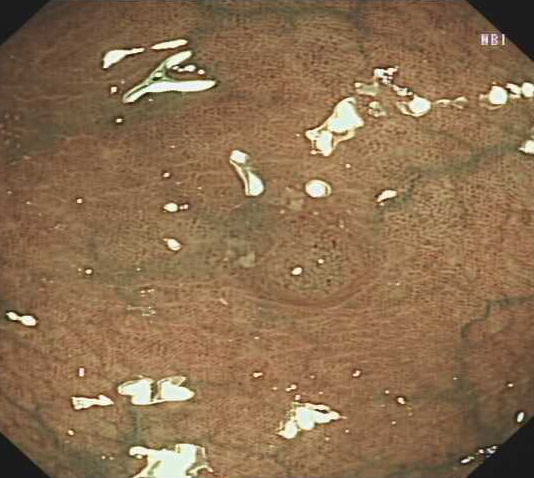adenoma: (222, 211, 387, 310)
